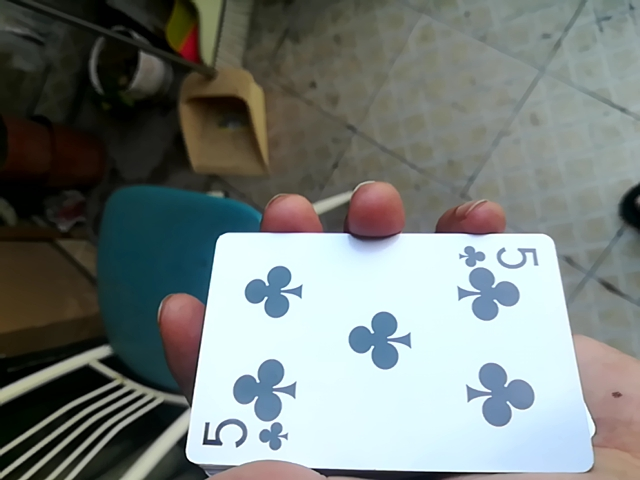mh 5: (179, 222, 591, 480)
